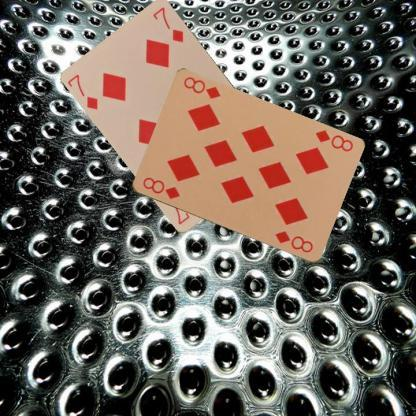7d: (66, 72, 100, 111)
8d: (140, 174, 181, 202), (312, 127, 354, 153)
